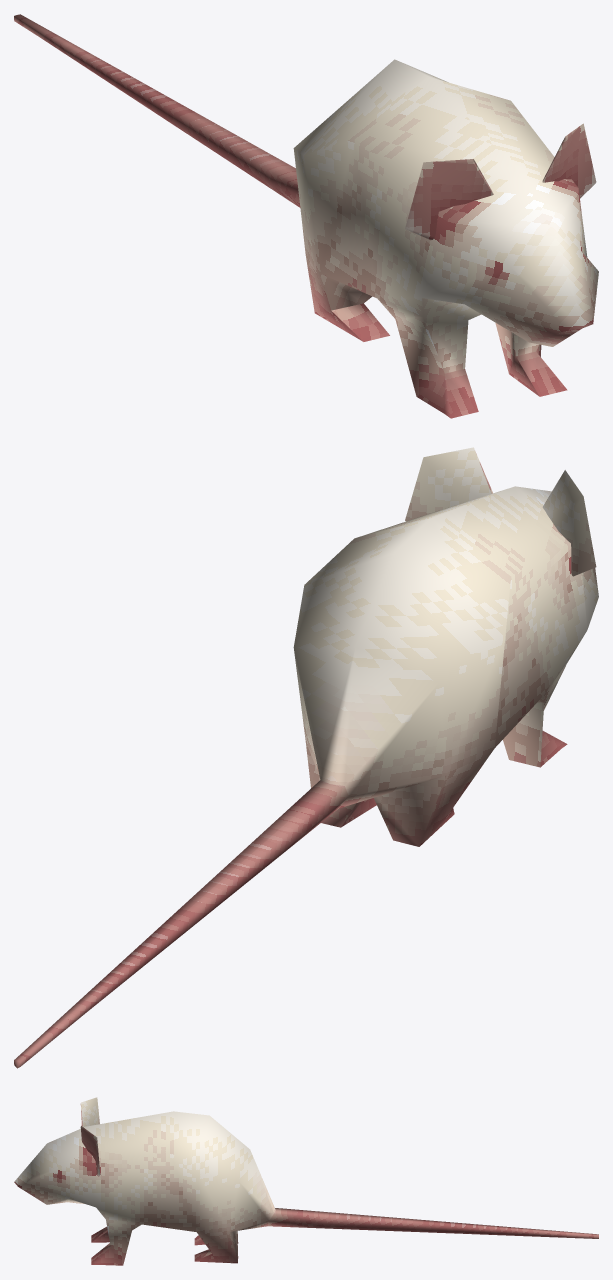
Rendered from rat.fbx.
3 views of the same model, one above another, from view 1: azimuth 30°, elevation 25°; view 2: azimuth 150°, elevation 25°; view 3: azimuth 270°, elevation 25° (orthographic). The views are drawn at different scales.
Visible parts, largest first — view 1: Cube; view 2: Cube; view 3: Cube.
Part boxes in pixels (left/top/right/bottom): Cube: left=14, top=14, right=598, bottom=418; Cube: left=14, top=447, right=598, bottom=1068; Cube: left=14, top=1097, right=598, bottom=1265.
Bounding box in the file's own units: 16.15 × 20.64 × 78.79.
1 material, 1 textured.
